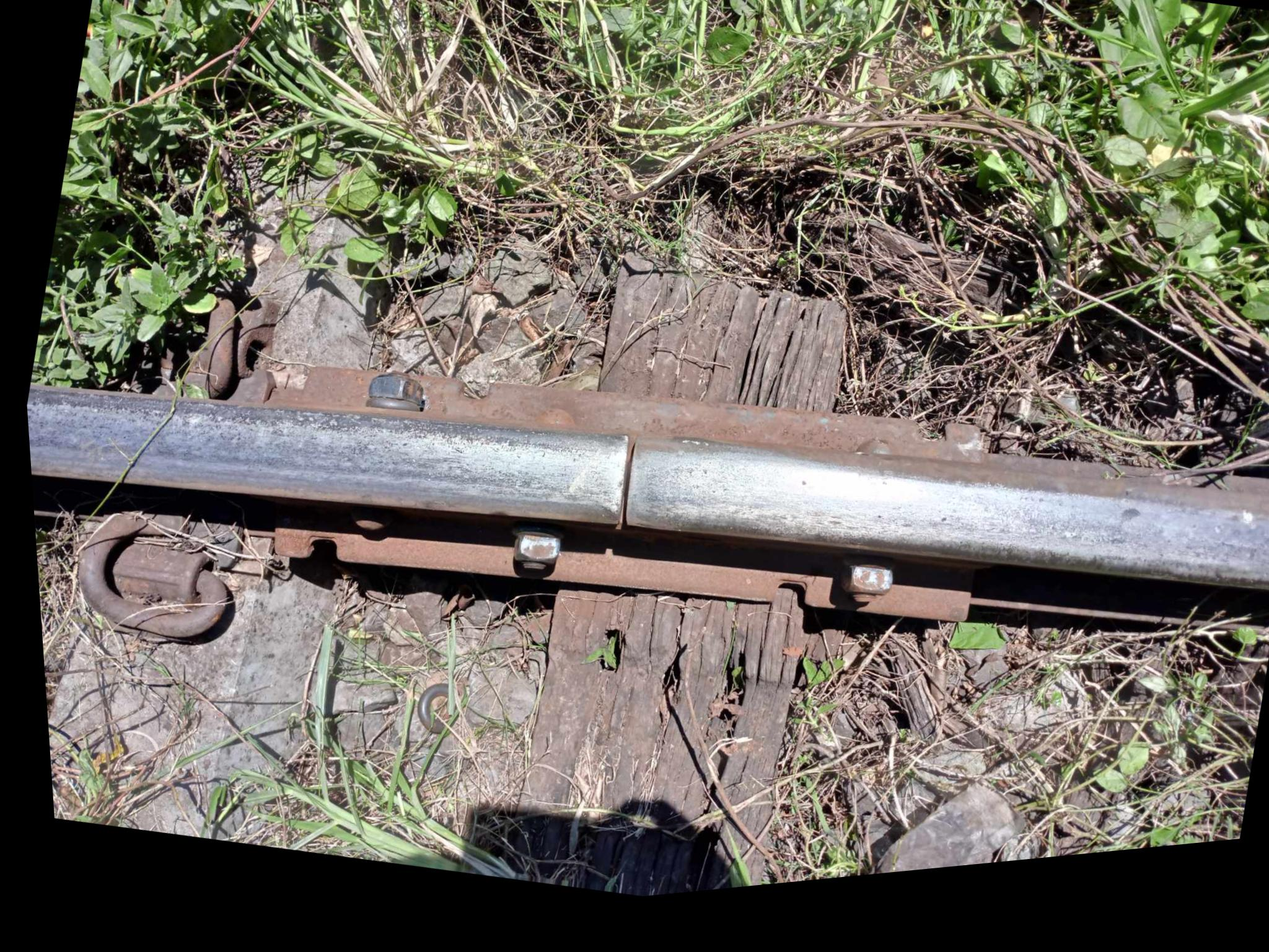person: (523, 386, 716, 586)
